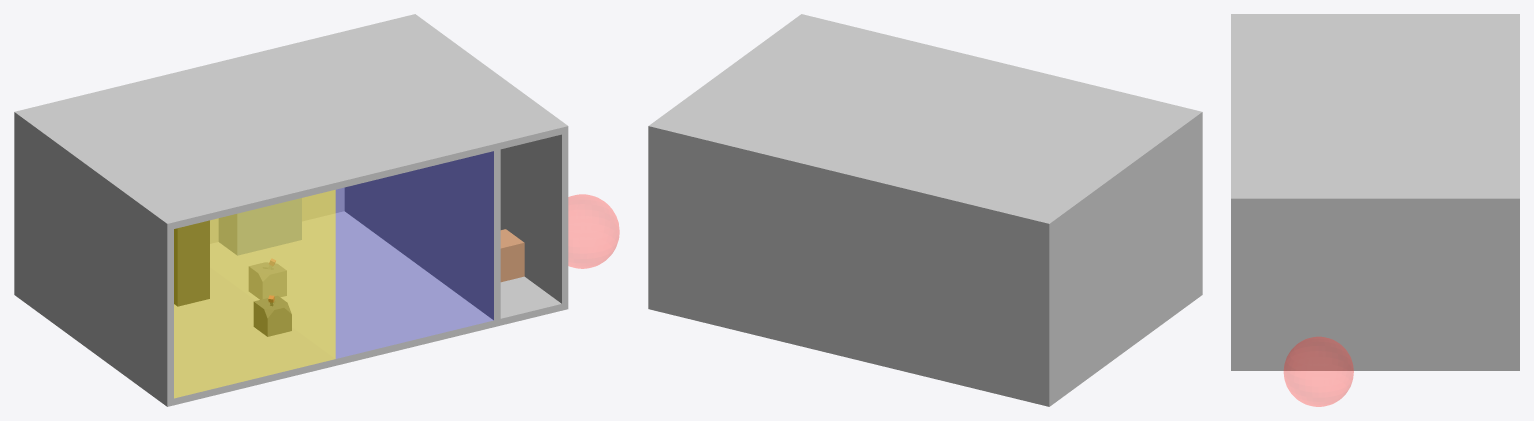
3 views of the same model, side by side, from view 1: azimuth 30°, elevation 25°; view 2: azimuth 150°, elevation 25°; view 3: azimuth 270°, elevation 25° (orthographic). The views are drawn at different scales.
Visible parts, largest first — view 1: room, 2_freeze, materials_sphere, 1_pc, 1_contramotor, 2_contramotor, 3_cube; view 2: room; view 3: room, materials_sphere.
Boxes of the visible parts, bbox=[...] form: room: bbox=[14, 14, 568, 406]; 2_freeze: bbox=[219, 198, 301, 255]; materials_sphere: bbox=[568, 194, 619, 268]; 1_pc: bbox=[174, 220, 209, 306]; 1_contramotor: bbox=[253, 295, 291, 336]; 2_contramotor: bbox=[249, 262, 286, 299]; 3_cube: bbox=[500, 229, 524, 282]; room: bbox=[648, 14, 1202, 406]; room: bbox=[1231, 14, 1519, 370]; materials_sphere: bbox=[1284, 337, 1353, 406].
Size of what is drawn, in the model's own units: 15.28 by 5.56 by 8.2.
